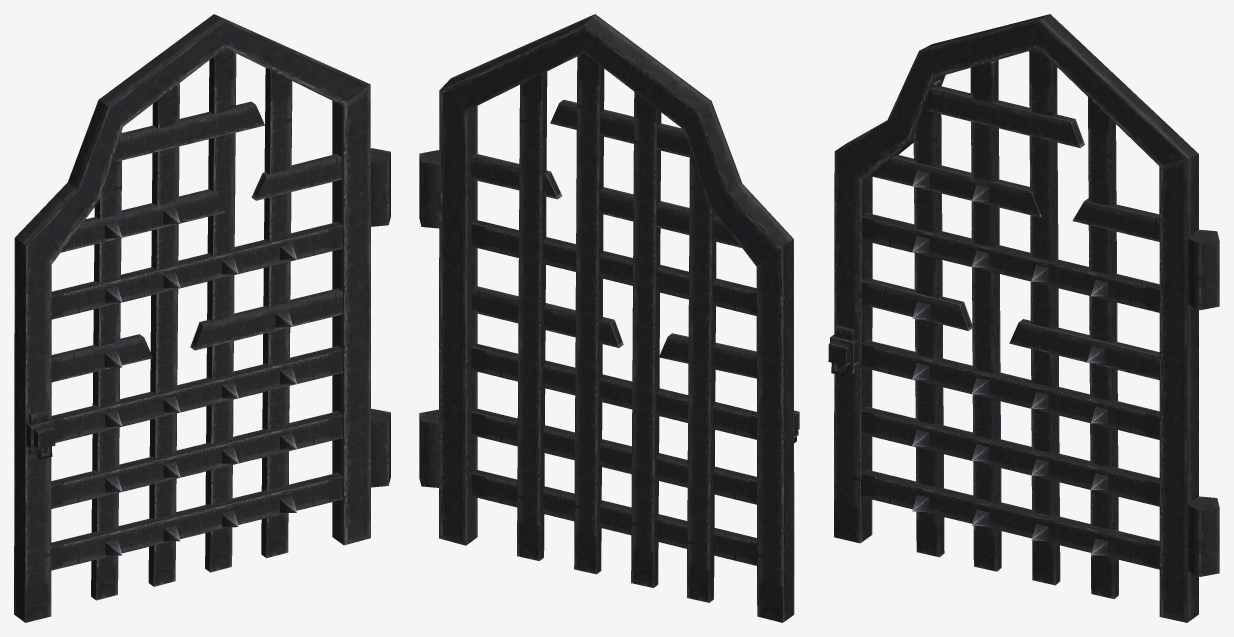
File: 10504_Door.FBX
The picture shows the model from 3 angles, left to right: view 1: azimuth 30°, elevation 25°; view 2: azimuth 150°, elevation 25°; view 3: azimuth 330°, elevation 25°; orthographic projection. The views are drawn at different scales.
Parts seen in each view (by area): view 1: Object964; view 2: Object964; view 3: Object964.
Part boxes in pixels (bbox=[...]): Object964: bbox=[14, 14, 390, 622]; Object964: bbox=[419, 14, 799, 622]; Object964: bbox=[828, 14, 1219, 622].
Size of the model in its own units: 440 by 628 by 50.1.
